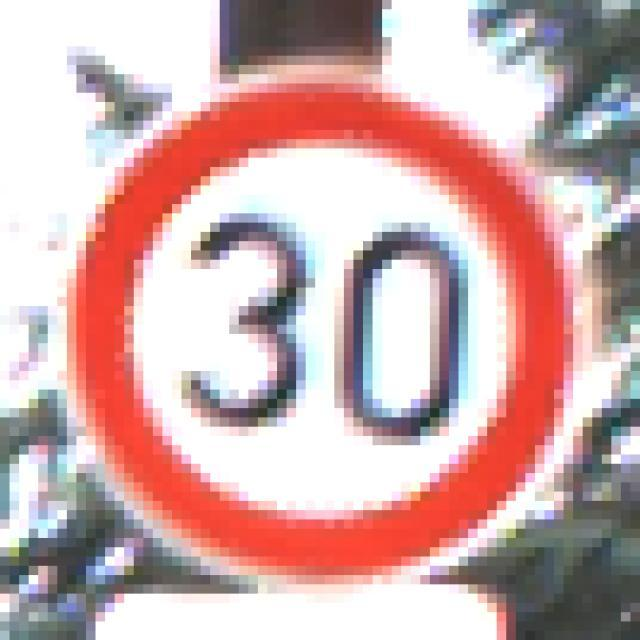Speed Limit -30-: (52, 51, 578, 580)
